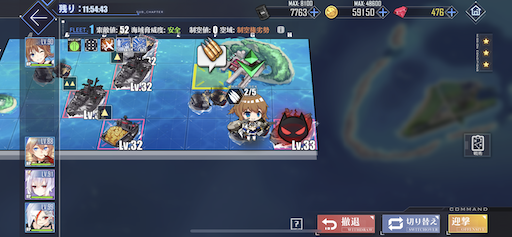boss: (272, 106, 317, 145)
lv1: (99, 108, 142, 151), (112, 52, 152, 91)
lv2: (64, 75, 103, 116)
lv3: (99, 108, 142, 151)
